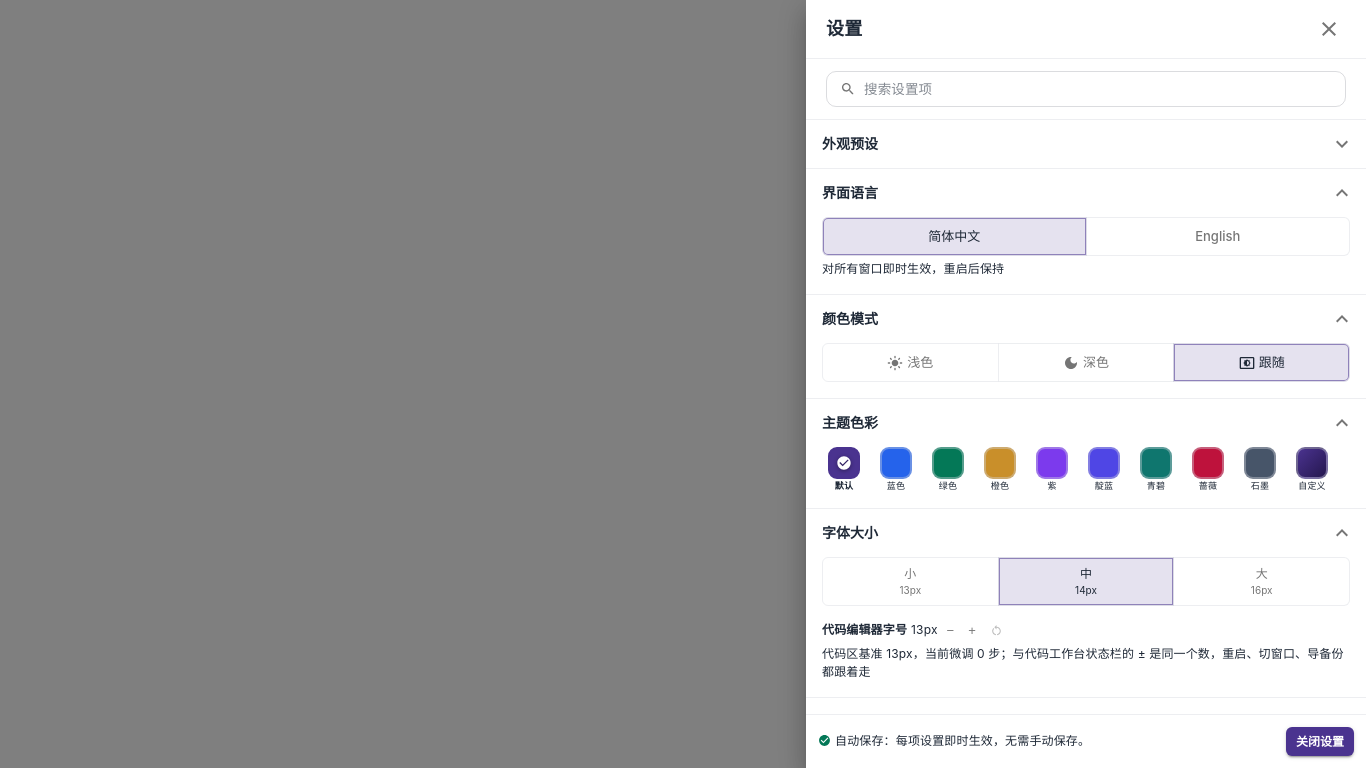
Test: 抽屉 · 「连写作偏好一起存」勾选框（第 25 轮待办 1 的 UI 面） › 默认不勾 —— 「点预设不该顺手切禅模式」要在界面上看得见，而不只是代码口径
What coordinates should you click on to do the following:
click the button with test id "appearance-preset-summary"
I would click on:
 (850, 144)
Its box is top-left (806, 120), bottom-right (1365, 168).
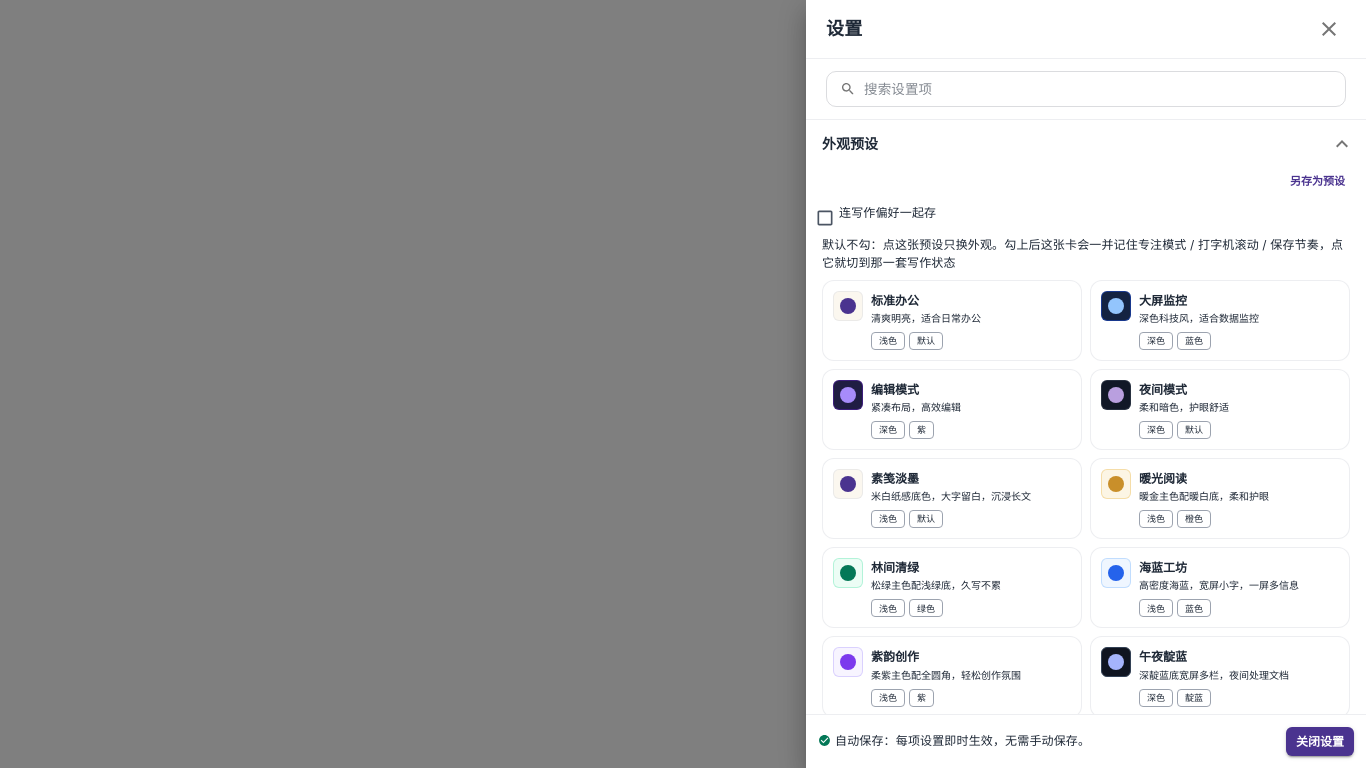
expect the checkbox labelled "连写作偏好一起存" is not checked: met, box top-left (815, 205), bottom-right (936, 228)
